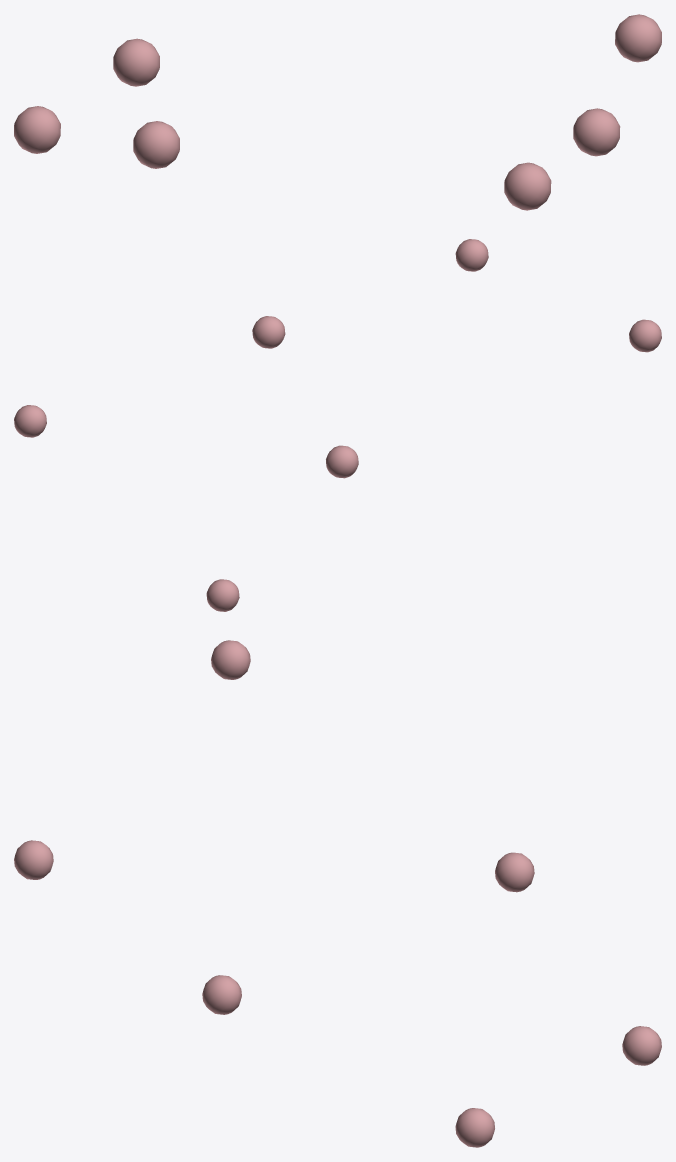
3 views of the same model, one above another, from view 1: azimuth 30°, elevation 25°; view 2: azimuth 150°, elevation 25°; view 3: azimuth 270°, elevation 25° (orthographic). The views are drawn at different scales.
Visible parts, largest first — view 1: ZA_89b9a33926c9f2fb; view 2: ZA_89b9a33926c9f2fb; view 3: ZA_89b9a33926c9f2fb.
Boxes of the visible parts, x1,y1,x2,y2 form: ZA_89b9a33926c9f2fb: (14,14,661,210); ZA_89b9a33926c9f2fb: (14,239,661,611); ZA_89b9a33926c9f2fb: (14,640,661,1147).
Bounding box in the file's own units: 0.0489 × 0.0195 × 0.0419.
